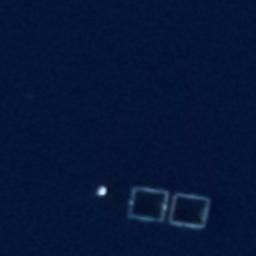square_solid: (122, 181, 176, 227), (165, 190, 212, 233)
